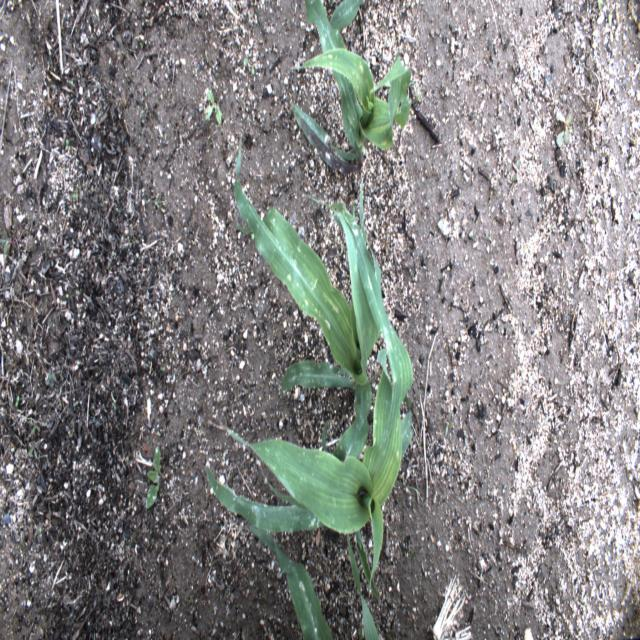crop: (205, 234, 415, 604), (233, 134, 379, 387), (289, 0, 412, 174), (246, 526, 338, 638), (348, 537, 378, 638)
weed: (144, 444, 169, 511), (592, 2, 620, 42), (0, 222, 24, 264), (551, 106, 574, 149), (202, 85, 225, 127), (23, 420, 41, 462), (238, 52, 260, 81), (402, 480, 426, 505), (440, 410, 456, 445), (42, 362, 56, 392), (511, 155, 524, 185), (124, 231, 140, 254), (586, 201, 600, 227), (58, 132, 72, 156), (156, 358, 172, 379), (152, 189, 164, 216), (11, 385, 23, 411), (595, 314, 610, 333), (70, 187, 86, 204), (34, 517, 48, 536), (137, 104, 152, 120), (106, 396, 118, 416), (140, 352, 152, 372), (141, 82, 152, 102)
